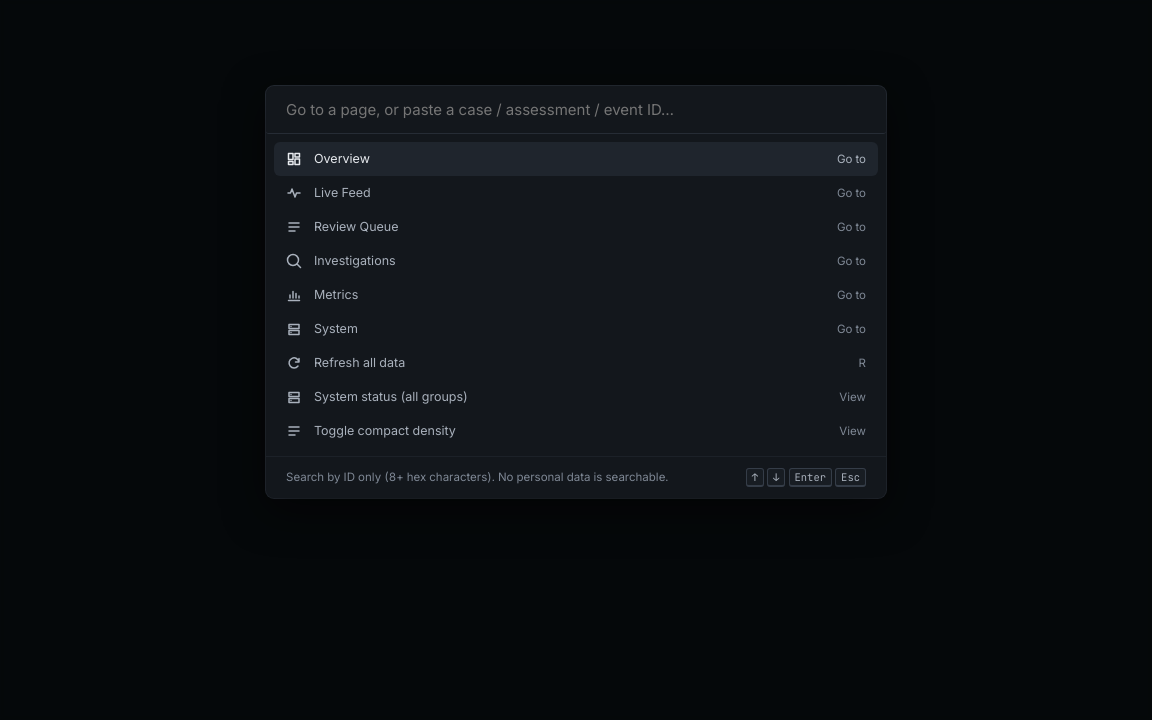
Test: command palette › looks up an ID and opens the case
Later steps or results of the test are not shown.
Type "49044c7e" into the dropdown at (576, 110), box [266, 86, 886, 134]
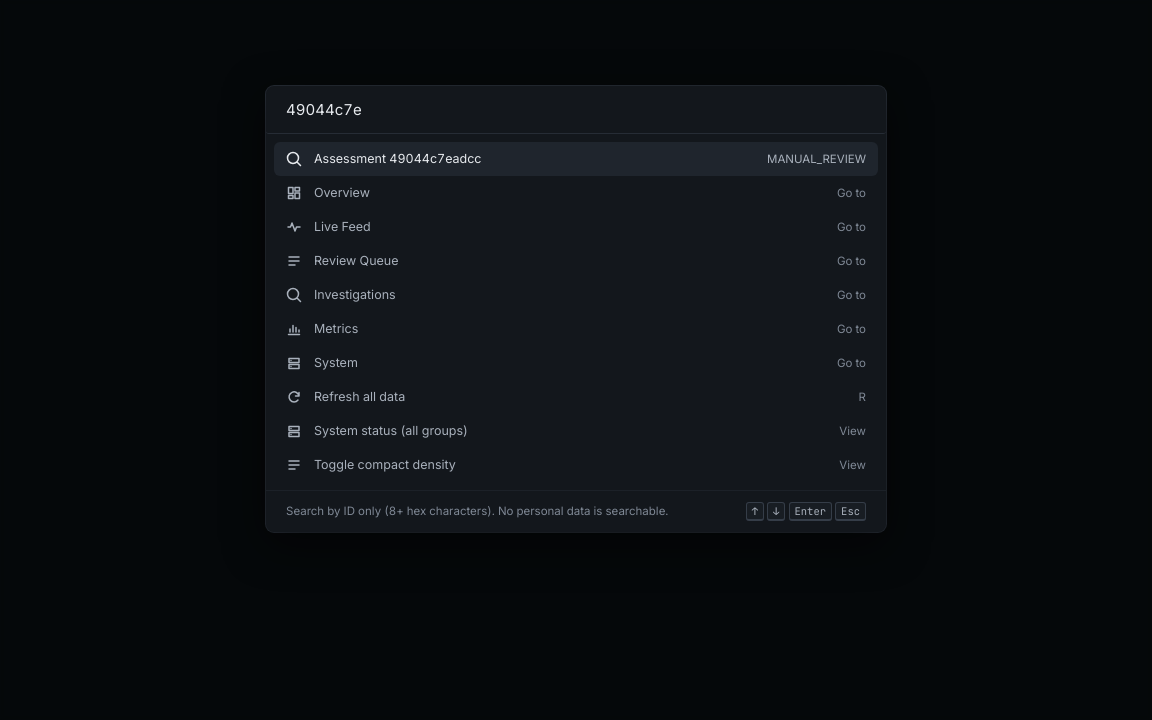
Result: the text "Assessment 49044c7eadcc" is shown at [314, 150, 482, 168]
